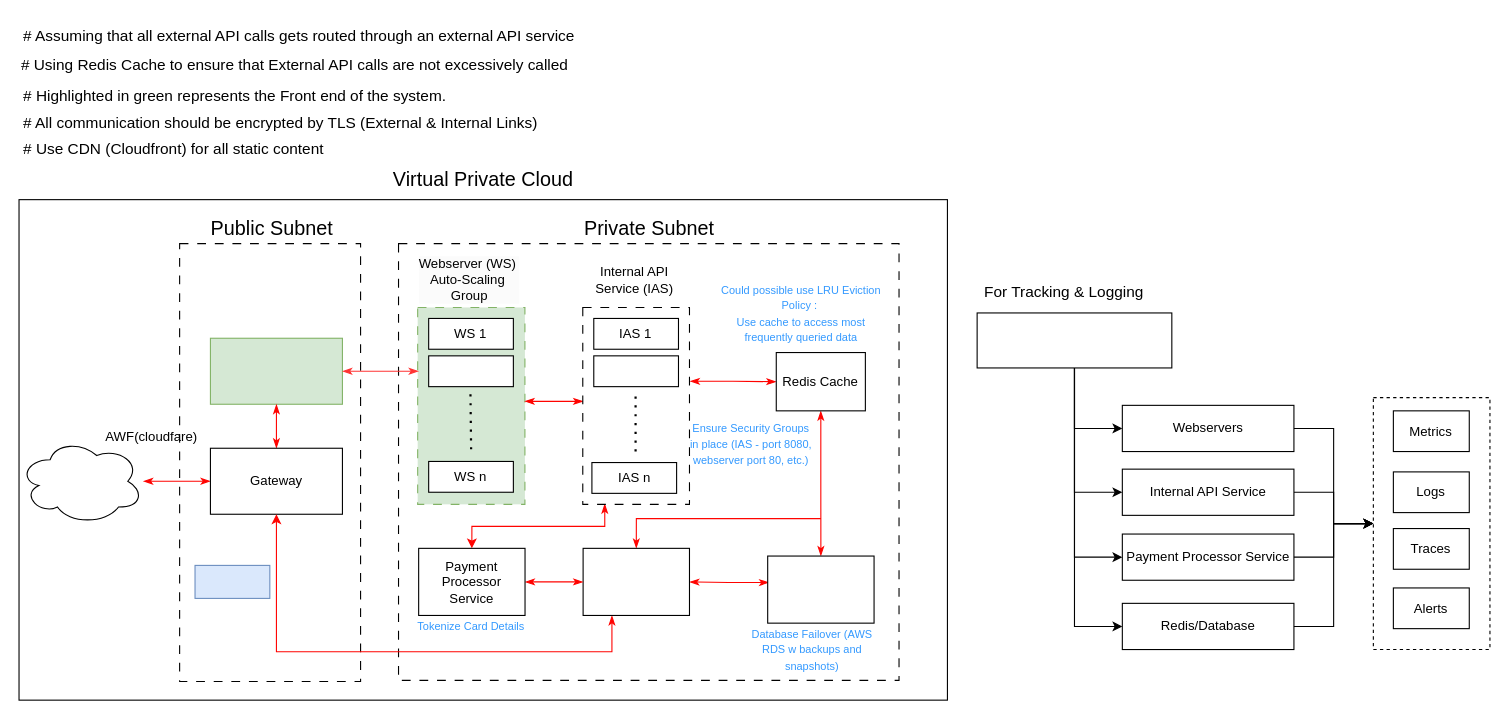
The diagram is 1510 pixels wide and 719 high, and some of its shapes have lost their labels. Here are the shapes that lost their labels. From the top down, the box of each, then its label:
(976, 312, 1172, 368): Observability Components
(209, 337, 342, 404): Public Load Balancer
(428, 355, 513, 387): WS 2
(593, 355, 678, 387): IAS 2
(18, 437, 143, 524): Internet
(194, 564, 270, 598): NAT Gateway
(582, 547, 689, 615): External API Service Layer
(767, 555, 874, 623): Relational Database
